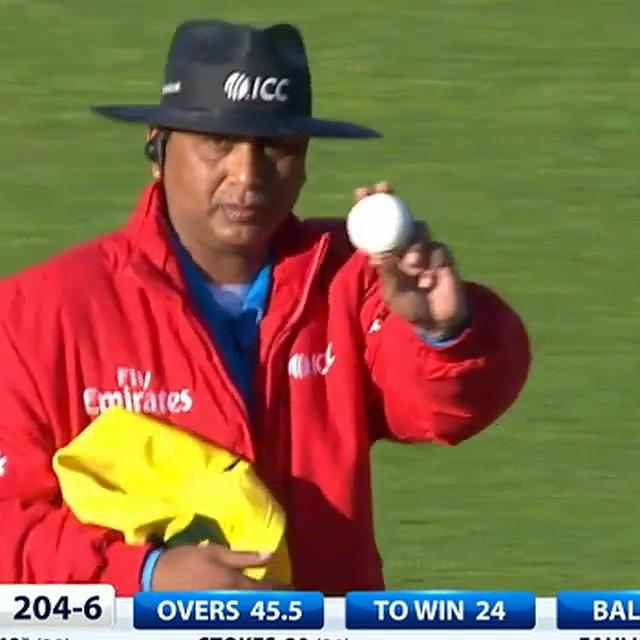umpire: (0, 0, 556, 592)
